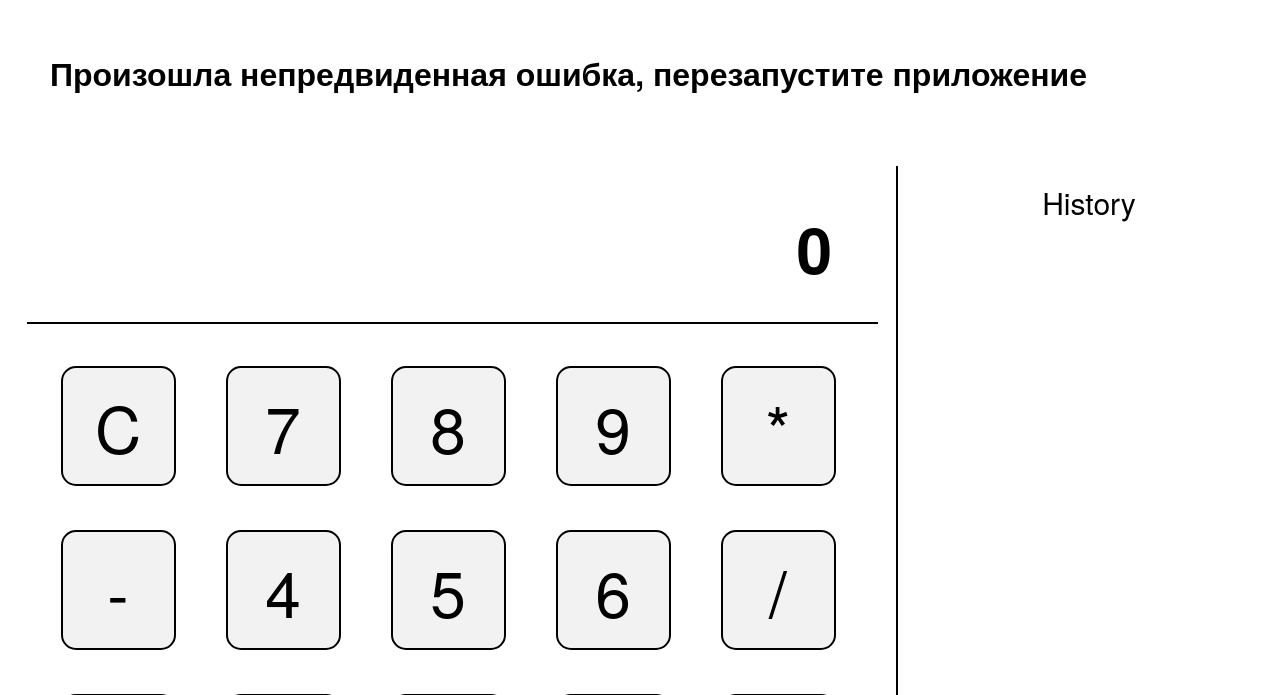
Test case: Home page › it check correct display value, and result
Click the button "5" at (449, 590), box [391,530,506,650]
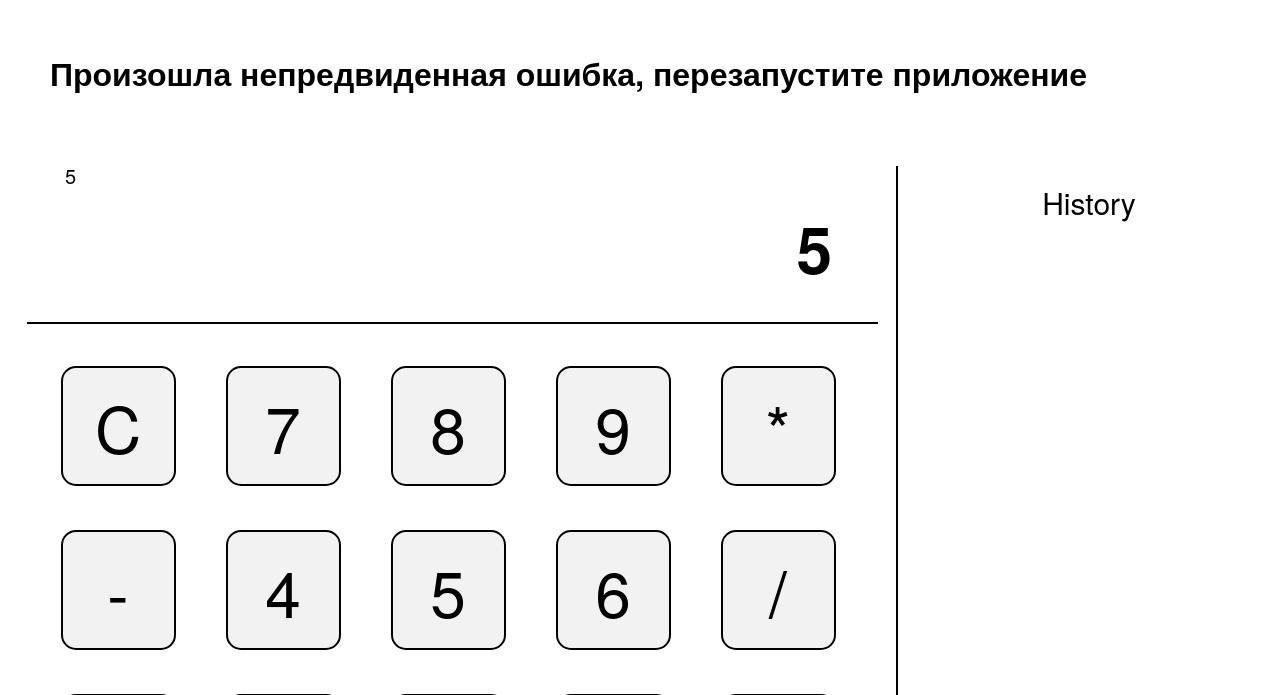
expect the heading "5" is shown: met, box [796,202,832,294]
expect the text "5" is shown: met, box [65,161,76,190]
